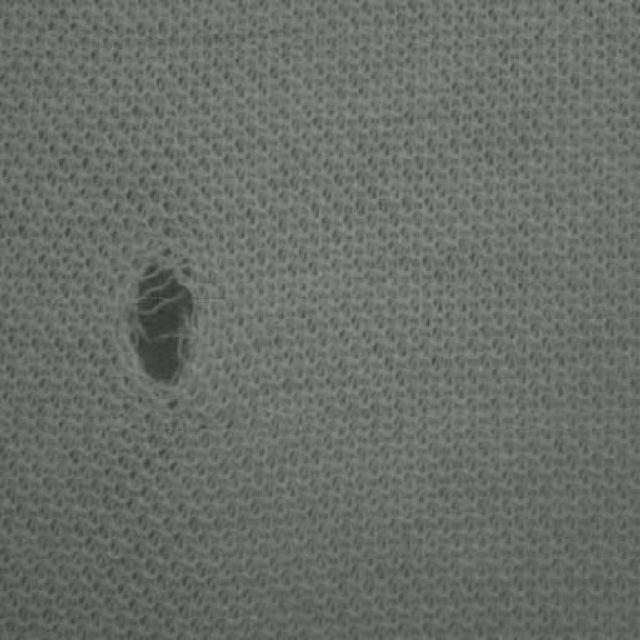Hole: (128, 267, 192, 386)
